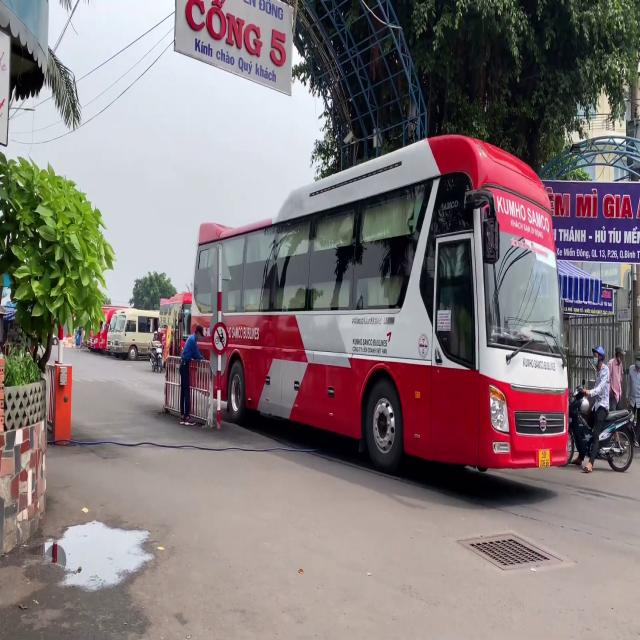bien_vang: (538, 449, 551, 468)
